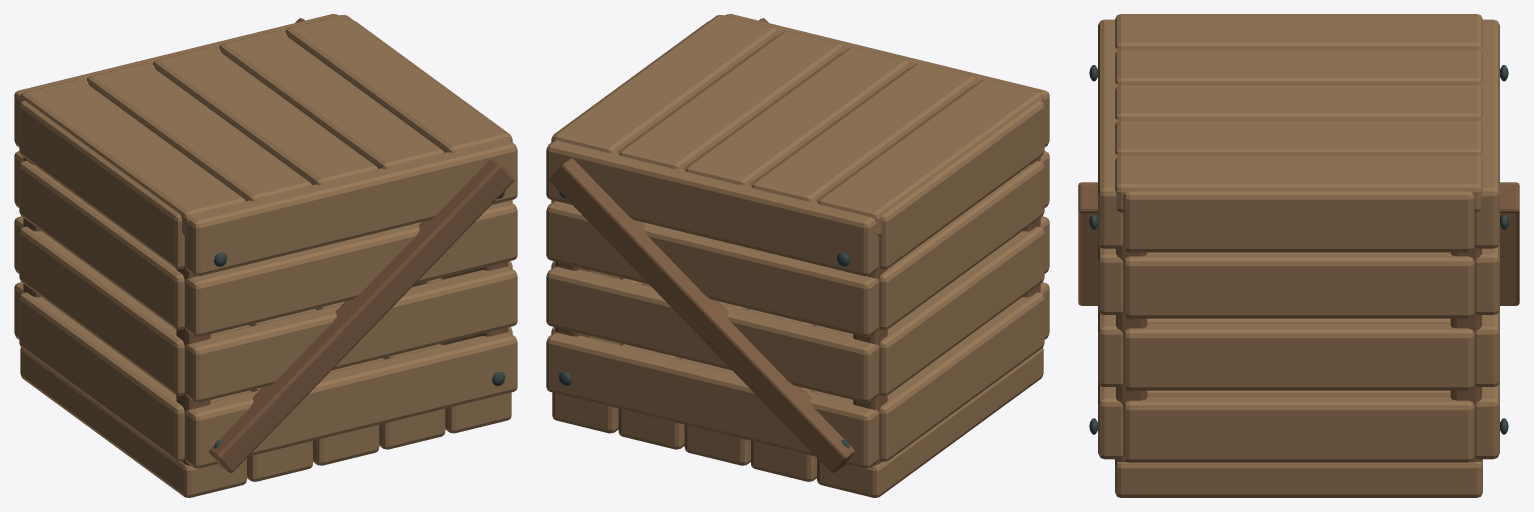
Rendered from cargo-crate.glb.
3 renders of one model, left to right at view 1: azimuth 30°, elevation 25°; view 2: azimuth 150°, elevation 25°; view 3: azimuth 270°, elevation 25°, orthographic. The views are drawn at different scales.
Parts seen in each view (by area): view 1: cargo-crate__Visual_matte; view 2: cargo-crate__Visual_matte; view 3: cargo-crate__Visual_matte.
Boxes of the visible parts, x1,y1,x2,y2 form: cargo-crate__Visual_matte: (14,14,517,497); cargo-crate__Visual_matte: (546,14,1049,497); cargo-crate__Visual_matte: (1078,14,1519,497).
Size of the model in its own units: 1.02 by 0.8275 by 1.06.
